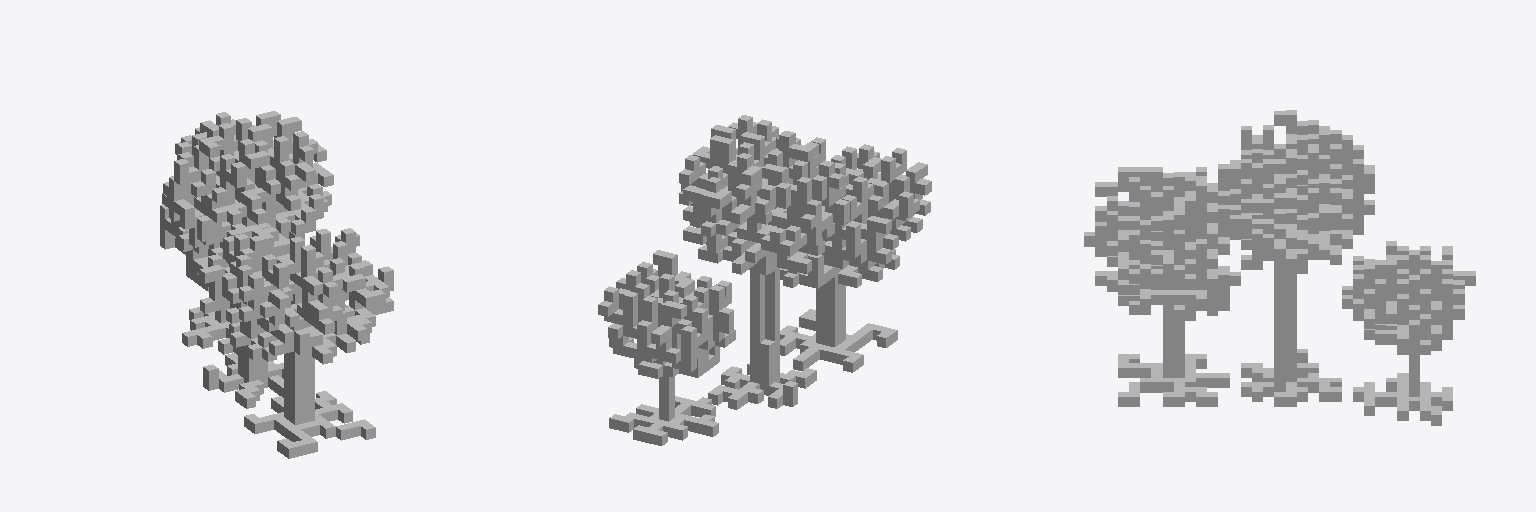
Rendered from Tree4.obj.
3 views of the same model, side by side, from view 1: azimuth 30°, elevation 25°; view 2: azimuth 150°, elevation 25°; view 3: azimuth 270°, elevation 25° (orthographic).
Visible parts, largest first — view 1: object 1; view 2: object 1; view 3: object 1.
Part boxes in pixels (bbox=[...]): object 1: bbox=[160, 111, 393, 458]; object 1: bbox=[598, 115, 931, 445]; object 1: bbox=[1084, 110, 1475, 425].
Bounding box in the file's own units: 1.8 × 2.6 × 3.5.